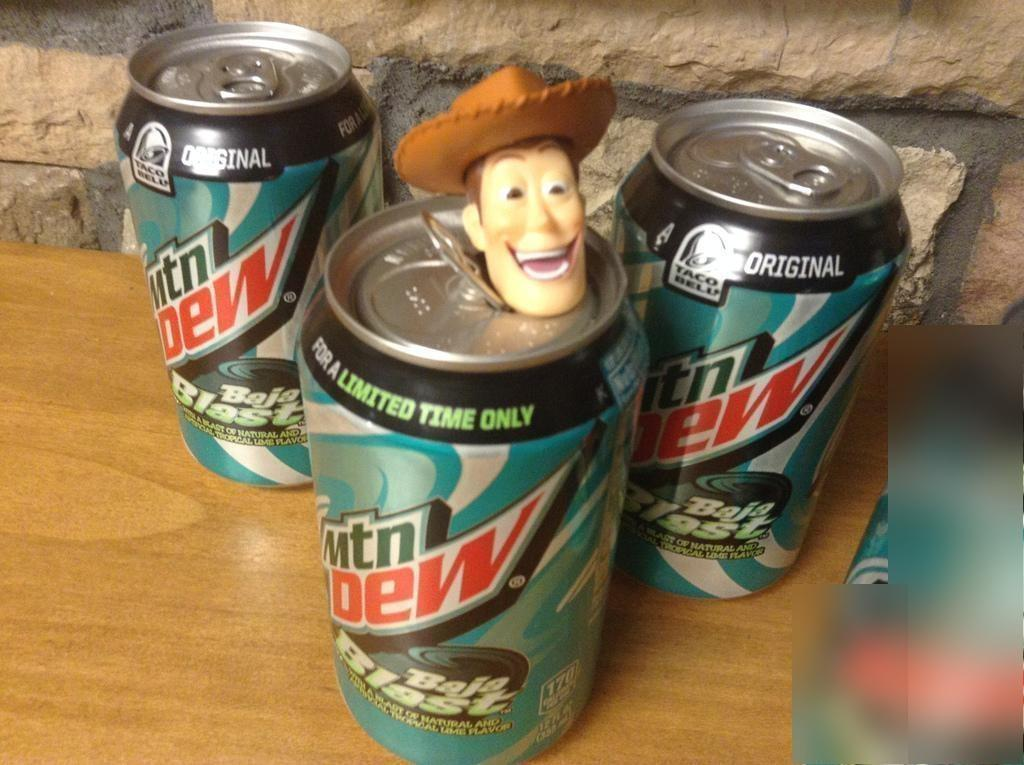tin can: (296, 198, 652, 761), (615, 100, 912, 600), (108, 20, 386, 485)
